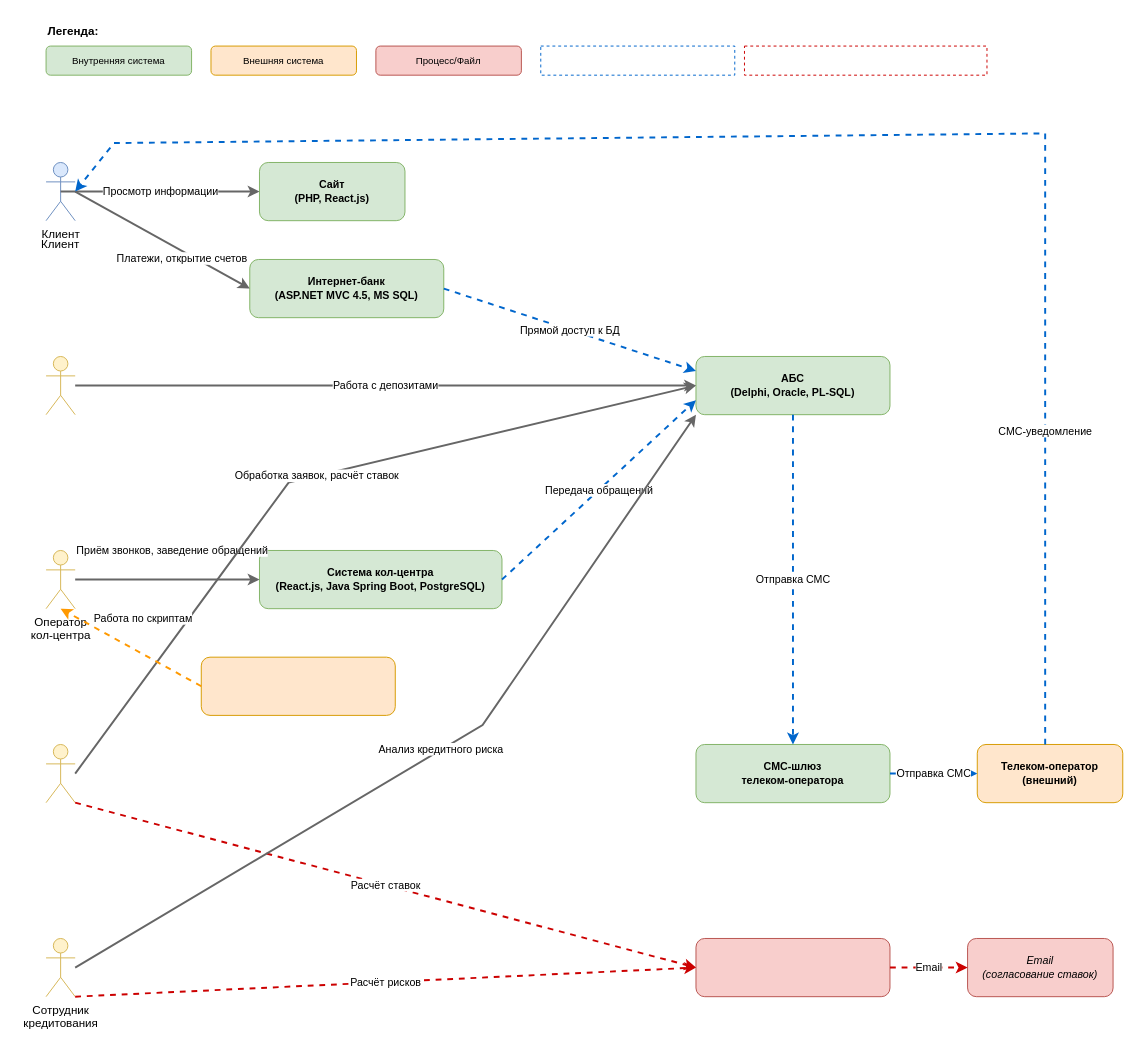
This 1140x1048 diagram has some shape labels left out. Each missing label, with the centre of its shape:
"API/Интеграция (синяя пунктирная)" belongs at (x=637, y=60).
"Excel-файлы (расчёт ставок)" belongs at (x=792, y=967).
"Менеджер депозитов" belongs at (x=60, y=773).
"Ручной процесс (красная пунктирная)" belongs at (x=865, y=60).
"Система партнёрского кол-центра (внешняя)" belongs at (x=297, y=685).
"Сотрудник фронт-офиса" belongs at (x=60, y=385).
